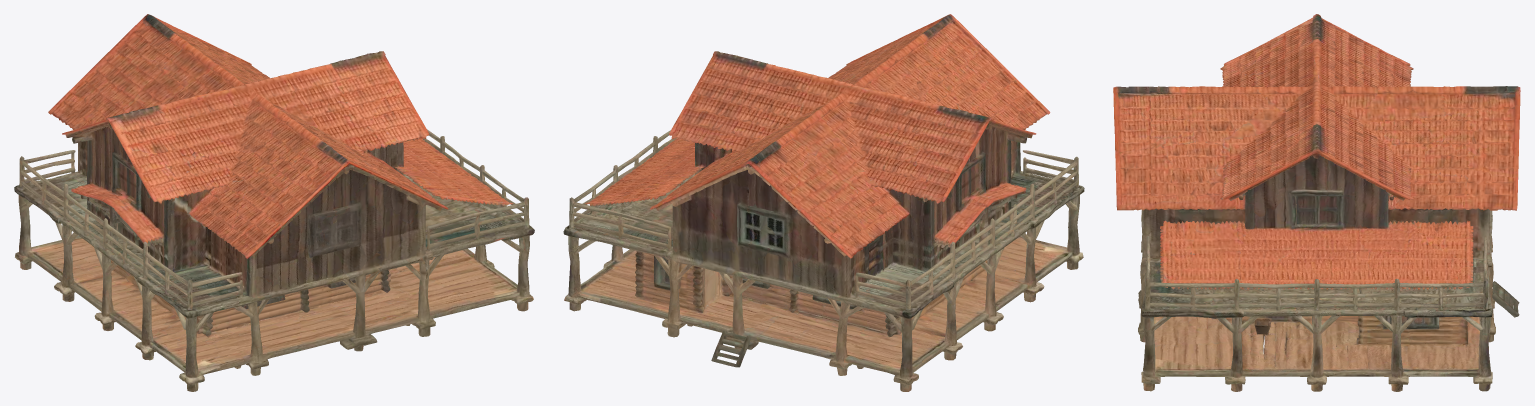
Rendered from bq_rural_house.glb.
The picture shows the model from 3 angles, left to right: view 1: azimuth 30°, elevation 25°; view 2: azimuth 150°, elevation 25°; view 3: azimuth 270°, elevation 25°; orthographic projection.
Visible parts, largest first — view 1: mesh_node; view 2: mesh_node; view 3: mesh_node.
Part boxes in pixels (<box>): mesh_node: <box>14,14,534,391</box>; mesh_node: <box>563,14,1084,391</box>; mesh_node: <box>1113,14,1520,391</box>.
Bounding box in the file's own units: 1.9 × 1.11 × 1.89.
Materials: 1 (1 with a texture image).
